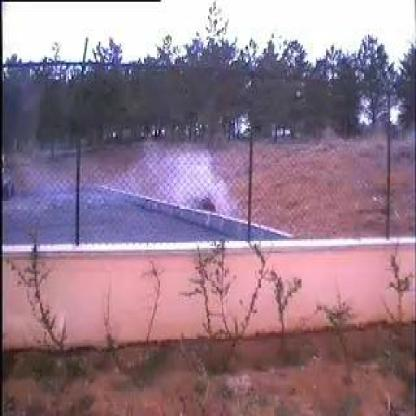-: (29, 141, 232, 238)
